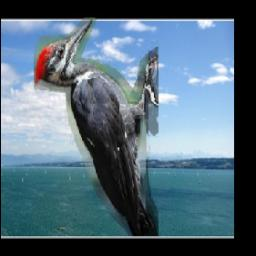Woodpecker: (35, 19, 159, 237)
